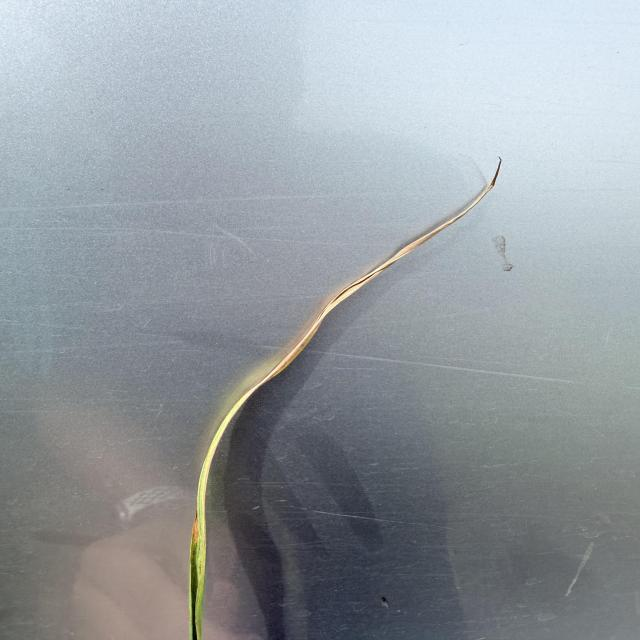Chay bia la: (269, 156, 501, 382)
